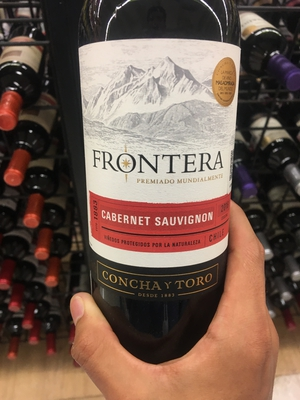frontera cabernet sauvignon: (72, 10, 249, 336)
